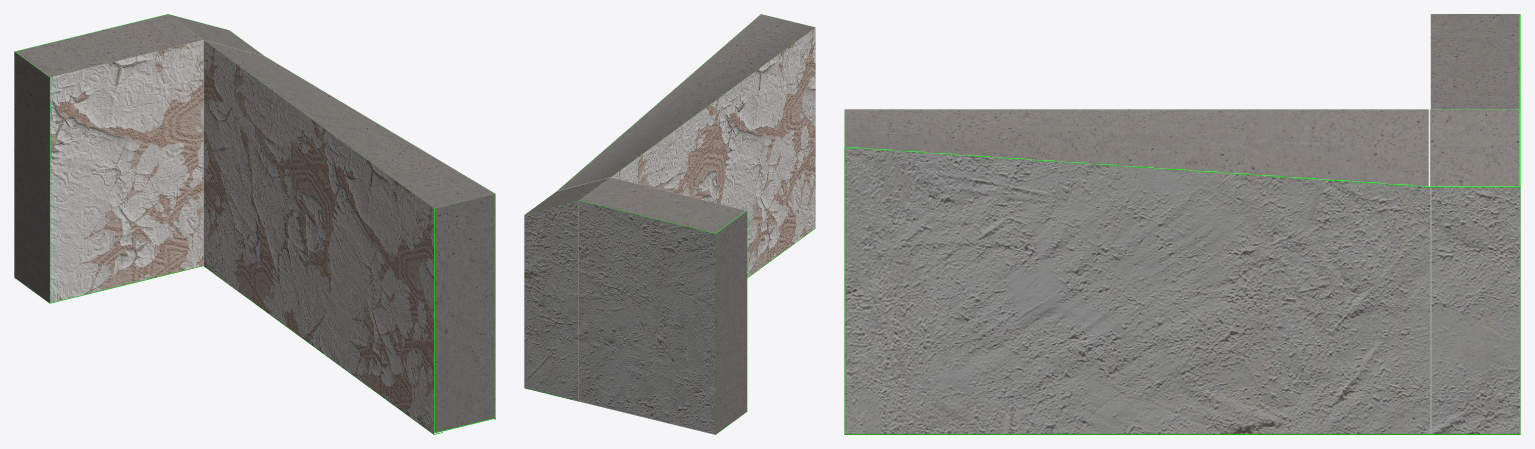
Rendered from House2RuinsShort.fbx.
3 views of the same model, side by side, from view 1: azimuth 30°, elevation 25°; view 2: azimuth 150°, elevation 25°; view 3: azimuth 270°, elevation 25° (orthographic). The views are drawn at different scales.
Parts seen in each view (by area): view 1: House2RuinsShort; view 2: House2RuinsShort; view 3: House2RuinsShort.
Boxes of the visible parts, x1,y1,x2,y2 form: House2RuinsShort: [14, 14, 495, 434]; House2RuinsShort: [524, 14, 815, 434]; House2RuinsShort: [844, 14, 1520, 434].
Size of the model in its own units: 1.75 by 1.76 by 3.75.
1 material, 1 textured.
